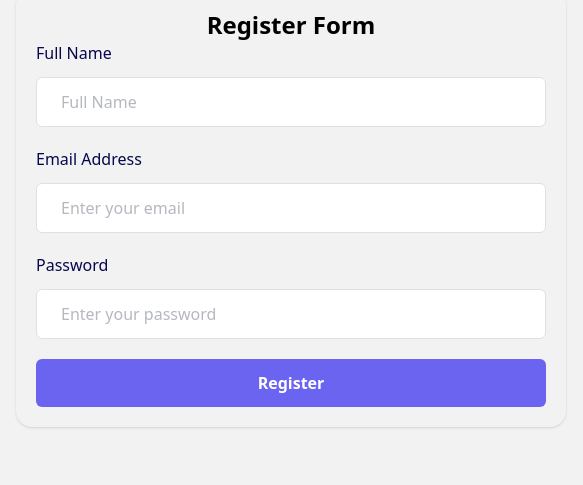
Test: should show success message when form is correctly submitted
The image size is (583, 485).
In the field labelled "Full Name": (291, 102) [36,77,546,127], type "VSR"
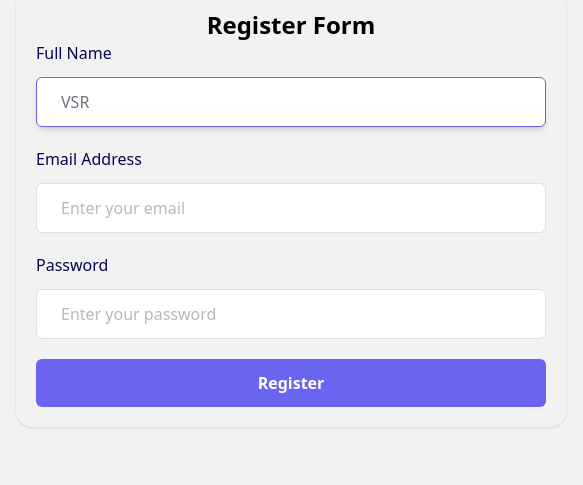
In the field labelled "Email Address": (291, 208) [36,183,546,233], type "vijay@gmail.com"
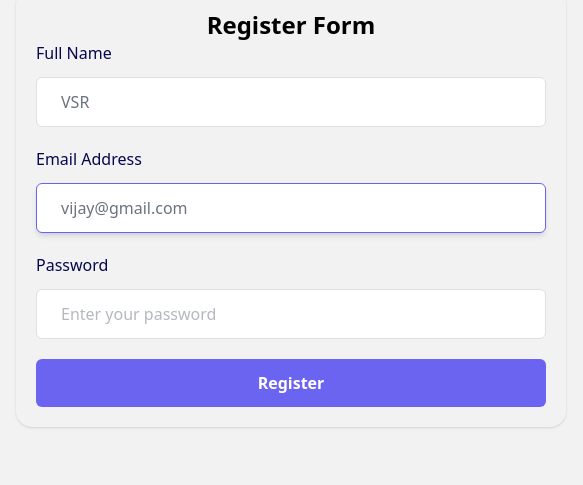
In the password field labelled "Password": (291, 314) [36,289,546,339], type "Vijay@1234"
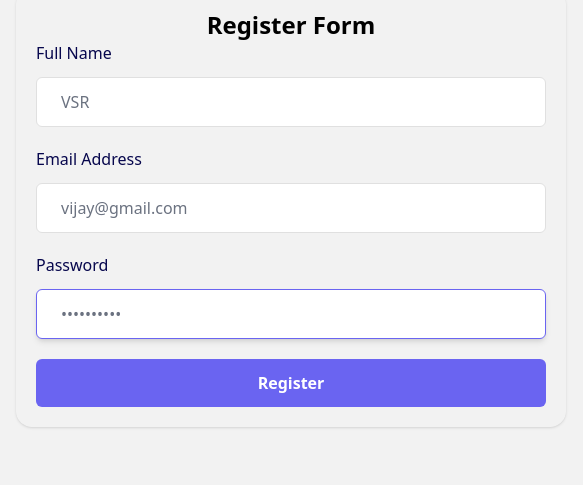
Click the button "Register": (291, 383) [36,359,546,407]
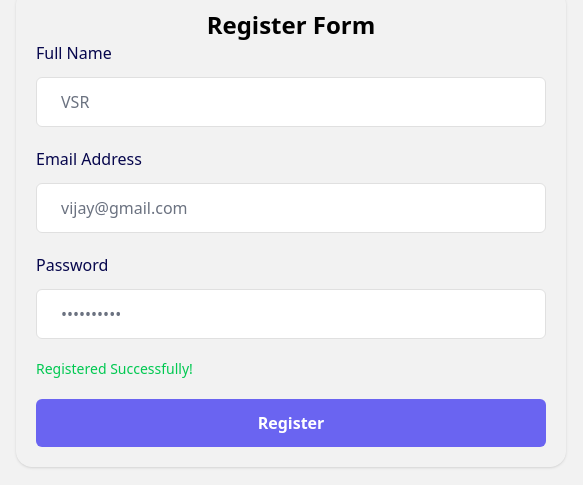
Now the text with test id "success-message" reads "Registered Successfully!", box [36,359,193,378]
